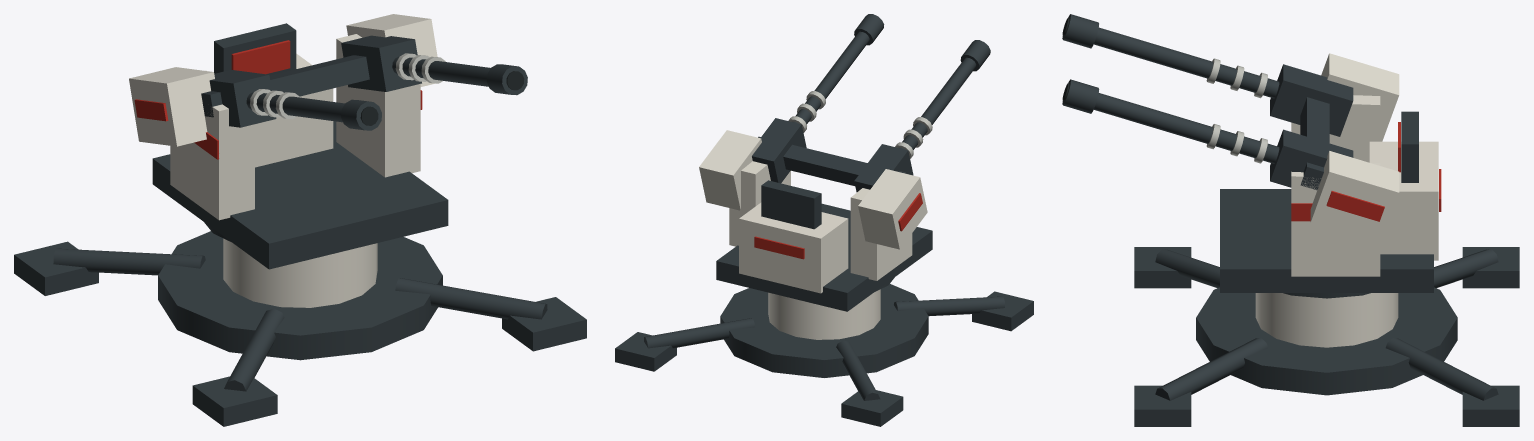
The picture shows the model from 3 angles, left to right: view 1: azimuth 30°, elevation 25°; view 2: azimuth 150°, elevation 25°; view 3: azimuth 270°, elevation 25°; orthographic projection. The views are drawn at different scales.
Parts seen in each view (by area): view 1: aa-gun-auto-fleet-machine, turret-fleet-machine, turret-fleet-armor, aa-gun-auto-fleet-armor, aa-barrel-right-fleet-machine, breakaway-0-painted, aa-barrel-left-fleet-machine, elevation-fleet-machine, breakaway-1-painted, radar-fleet-machine, radar-fleet-red, aa-barrel-right-fleet-edge (+2 smaller); view 2: aa-gun-auto-fleet-machine, turret-fleet-armor, turret-fleet-machine, aa-gun-auto-fleet-armor, aa-barrel-right-fleet-machine, breakaway-0-painted, aa-barrel-left-fleet-machine, breakaway-1-painted, radar-fleet-machine, elevation-fleet-machine, turret-fleet-red, aa-barrel-left-fleet-edge (+1 smaller); view 3: aa-gun-auto-fleet-machine, turret-fleet-armor, turret-fleet-machine, aa-barrel-left-fleet-machine, aa-gun-auto-fleet-armor, aa-barrel-right-fleet-machine, breakaway-1-painted, breakaway-0-painted, elevation-fleet-machine, radar-fleet-machine, elevation-fleet-red, aa-barrel-left-fleet-edge (+2 smaller).
Part boxes in pixels (x1=…): aa-gun-auto-fleet-machine: x1=14, y1=222, x2=586, y2=426; turret-fleet-machine: x1=152, y1=121, x2=448, y2=269; turret-fleet-armor: x1=170, y1=34, x2=420, y2=220; aa-gun-auto-fleet-armor: x1=223, y1=238, x2=377, y2=307; aa-barrel-right-fleet-machine: x1=341, y1=35, x2=527, y2=95; breakaway-0-painted: x1=129, y1=67, x2=214, y2=146; aa-barrel-left-fleet-machine: x1=209, y1=69, x2=381, y2=130; elevation-fleet-machine: x1=201, y1=55, x2=369, y2=117; breakaway-1-painted: x1=346, y1=14, x2=437, y2=86; radar-fleet-machine: x1=214, y1=23, x2=296, y2=75; radar-fleet-red: x1=231, y1=40, x2=290, y2=74; aa-barrel-right-fleet-edge: x1=395, y1=53, x2=445, y2=83; aa-gun-auto-fleet-machine: x1=615, y1=277, x2=1033, y2=426; turret-fleet-armor: x1=729, y1=161, x2=912, y2=293; turret-fleet-machine: x1=716, y1=203, x2=932, y2=311; aa-gun-auto-fleet-armor: x1=768, y1=289, x2=880, y2=339; aa-barrel-right-fleet-machine: x1=752, y1=14, x2=884, y2=183; breakaway-0-painted: x1=858, y1=169, x2=927, y2=249; aa-barrel-left-fleet-machine: x1=854, y1=40, x2=990, y2=192; breakaway-1-painted: x1=699, y1=130, x2=761, y2=210; radar-fleet-machine: x1=761, y1=180, x2=821, y2=229; elevation-fleet-machine: x1=758, y1=136, x2=906, y2=185; turret-fleet-red: x1=754, y1=236, x2=804, y2=259; aa-barrel-left-fleet-edge: x1=895, y1=117, x2=932, y2=158; aa-gun-auto-fleet-machine: x1=1134, y1=247, x2=1519, y2=426; turret-fleet-armor: x1=1291, y1=95, x2=1438, y2=276; turret-fleet-machine: x1=1220, y1=189, x2=1433, y2=292; aa-barrel-left-fleet-machine: x1=1062, y1=14, x2=1353, y2=136; aa-gun-auto-fleet-armor: x1=1255, y1=293, x2=1398, y2=347; aa-barrel-right-fleet-machine: x1=1062, y1=79, x2=1353, y2=187; breakaway-1-painted: x1=1310, y1=151, x2=1399, y2=243; breakaway-0-painted: x1=1321, y1=53, x2=1399, y2=141; elevation-fleet-machine: x1=1300, y1=97, x2=1329, y2=190; radar-fleet-machine: x1=1401, y1=111, x2=1418, y2=182; elevation-fleet-red: x1=1326, y1=191, x2=1384, y2=221; aa-barrel-left-fleet-edge: x1=1206, y1=58, x2=1267, y2=98.
Bounding box in the file's own units: 16.77 × 14.29 × 19.9.
